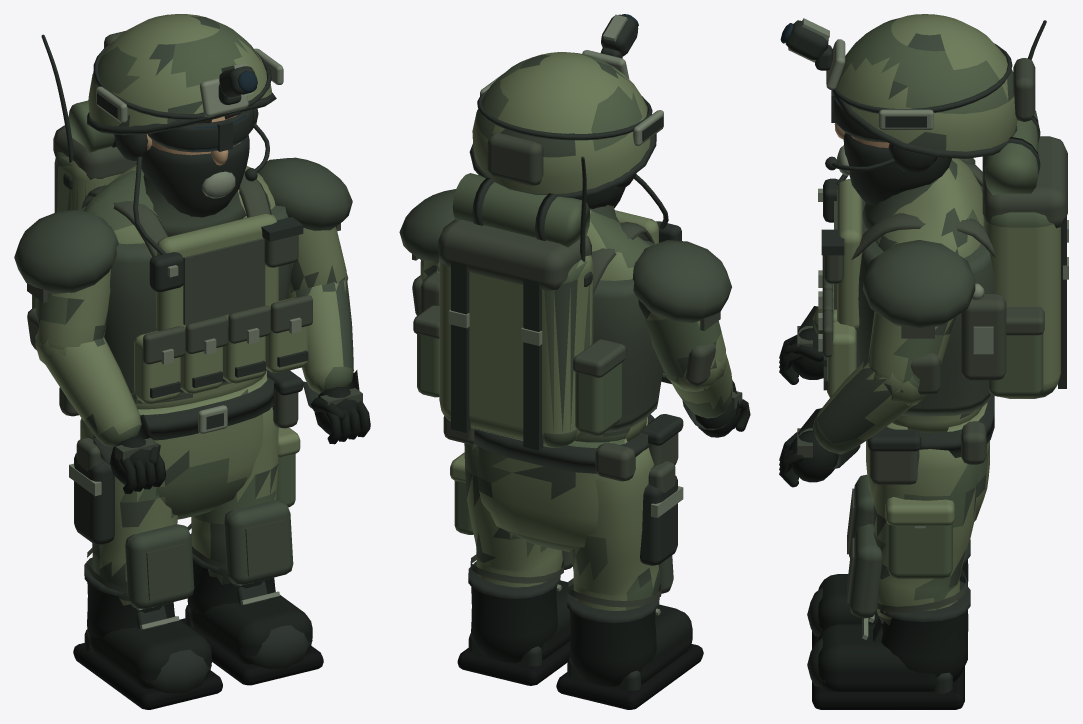
The model's file is soldier_player.obj.
3 views of the same model, side by side, from view 1: azimuth 30°, elevation 25°; view 2: azimuth 150°, elevation 25°; view 3: azimuth 270°, elevation 25° (orthographic). The views are drawn at different scales.
Visible parts, largest first — view 1: soldier_player; view 2: soldier_player; view 3: soldier_player.
Part boxes in pixels (x1,y1,x2,y2): soldier_player: (14,14,370,709); soldier_player: (399,14,750,709); soldier_player: (779,14,1068,709).
Bounding box in the file's own units: 38.48 × 71.96 × 29.24.
